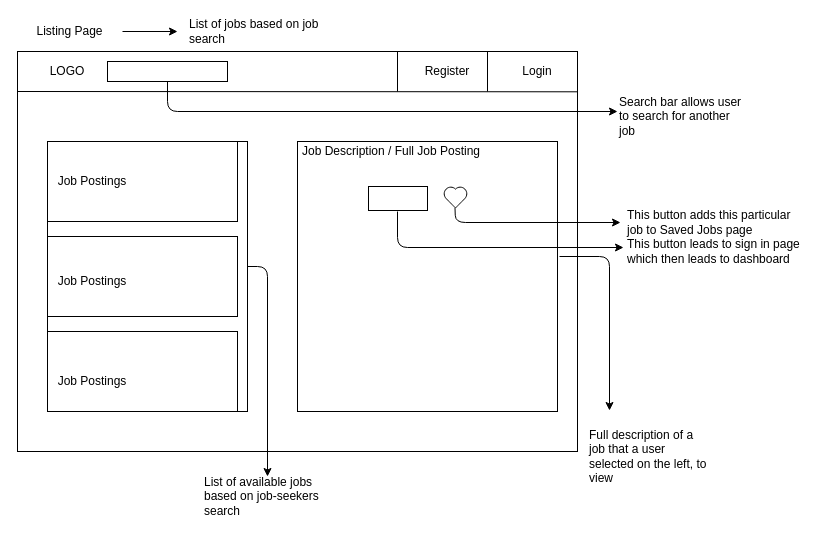
Some shapes in this 827 by 535 pixel diagram are drawn without their labels. The centre of each missing label's shape, as x and y in pixels:
"Apply" belongs at (398,198).
"Search" belongs at (167,71).
